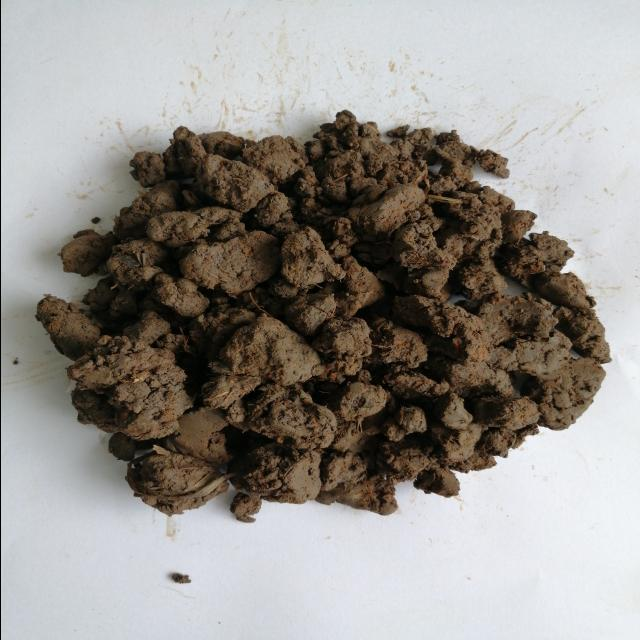soil: (142, 187, 474, 462)
